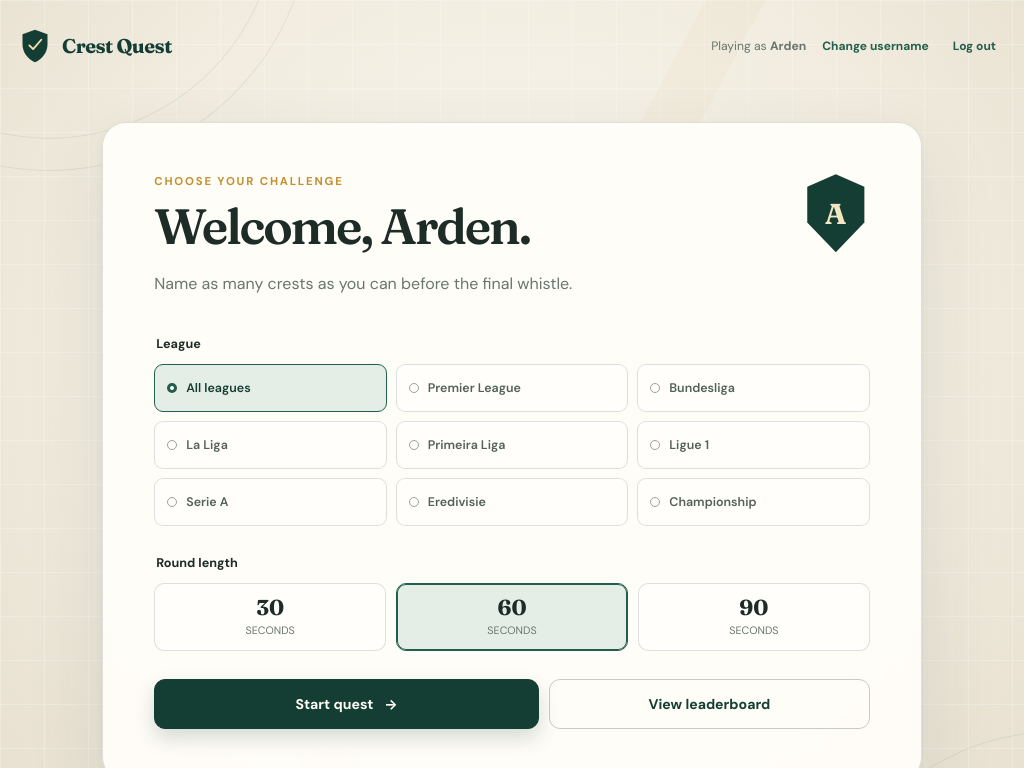
Test: Crest Quest frontend › changes a username without clearing the anonymous identity
Click the button "Change username" at x=875, y=46, box [814,24,937,68]
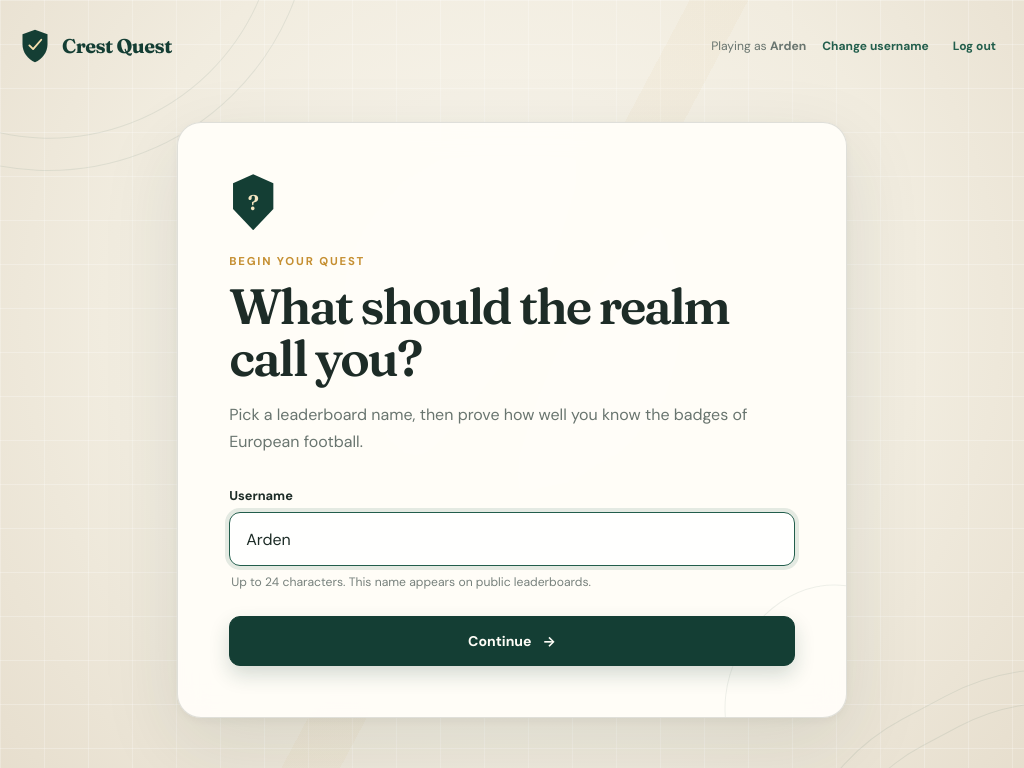
Expected: the field labelled "Username" holds "Arden"
Replace the text in the field labelled "Username" with "Blair" at x=512, y=539, box [229,512,795,566]
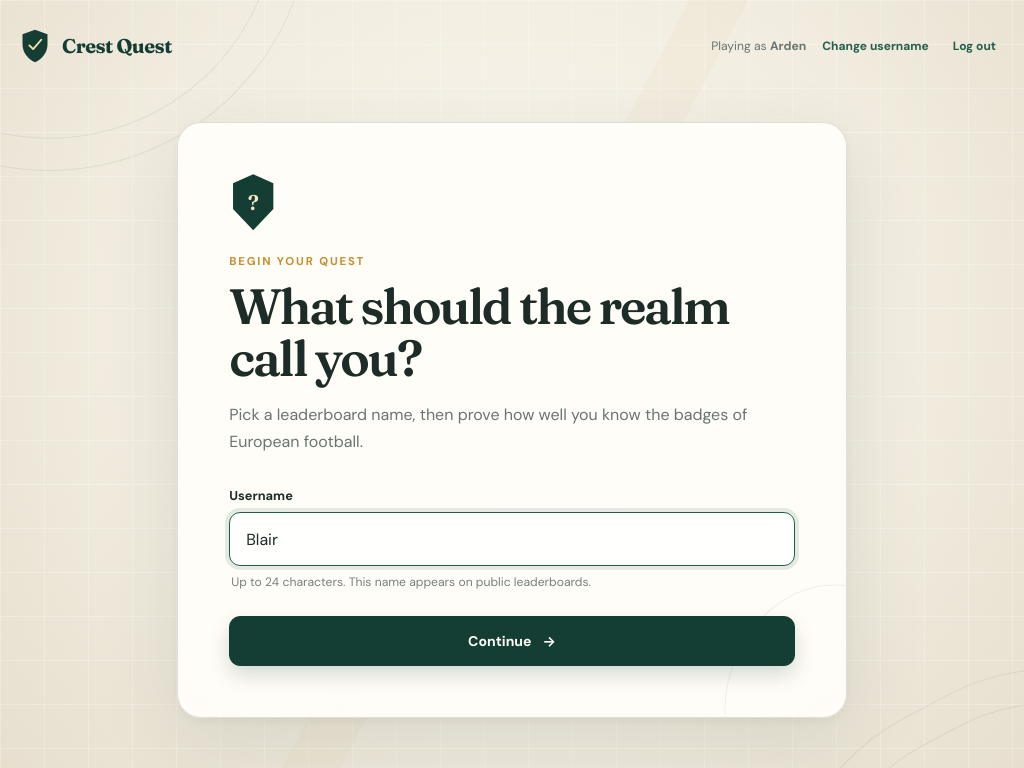
Click the button "Continue →" at x=512, y=641, box [229,616,795,666]
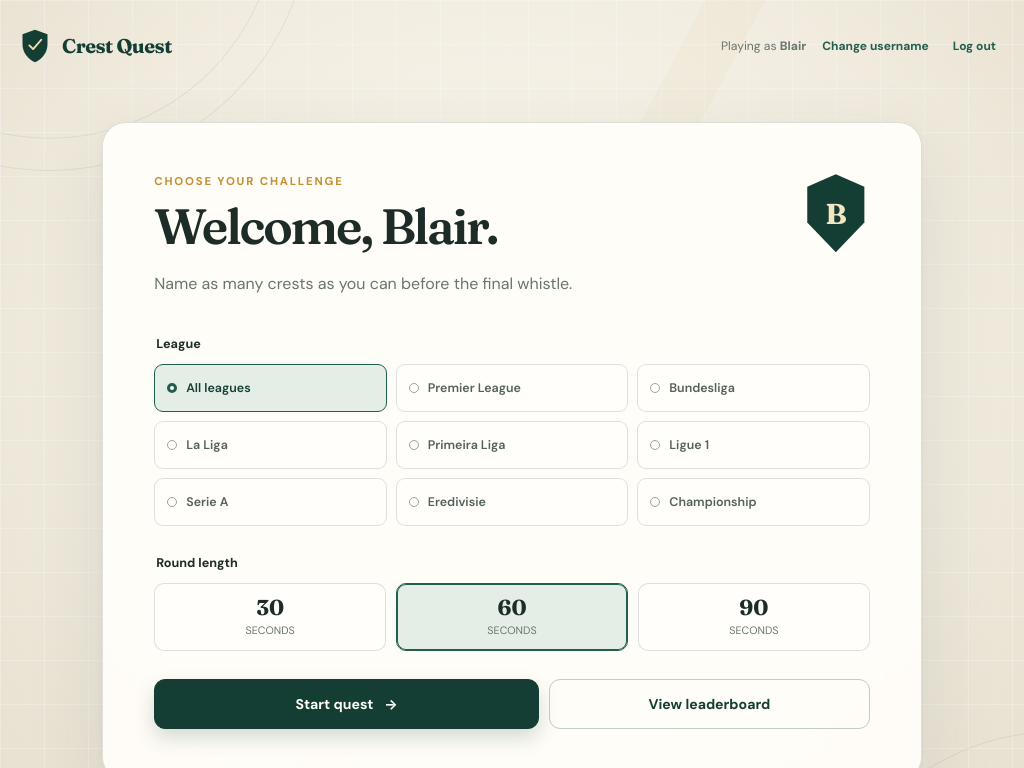
Expected: the heading "Welcome, Blair." is shown, [154,195,497,257]
